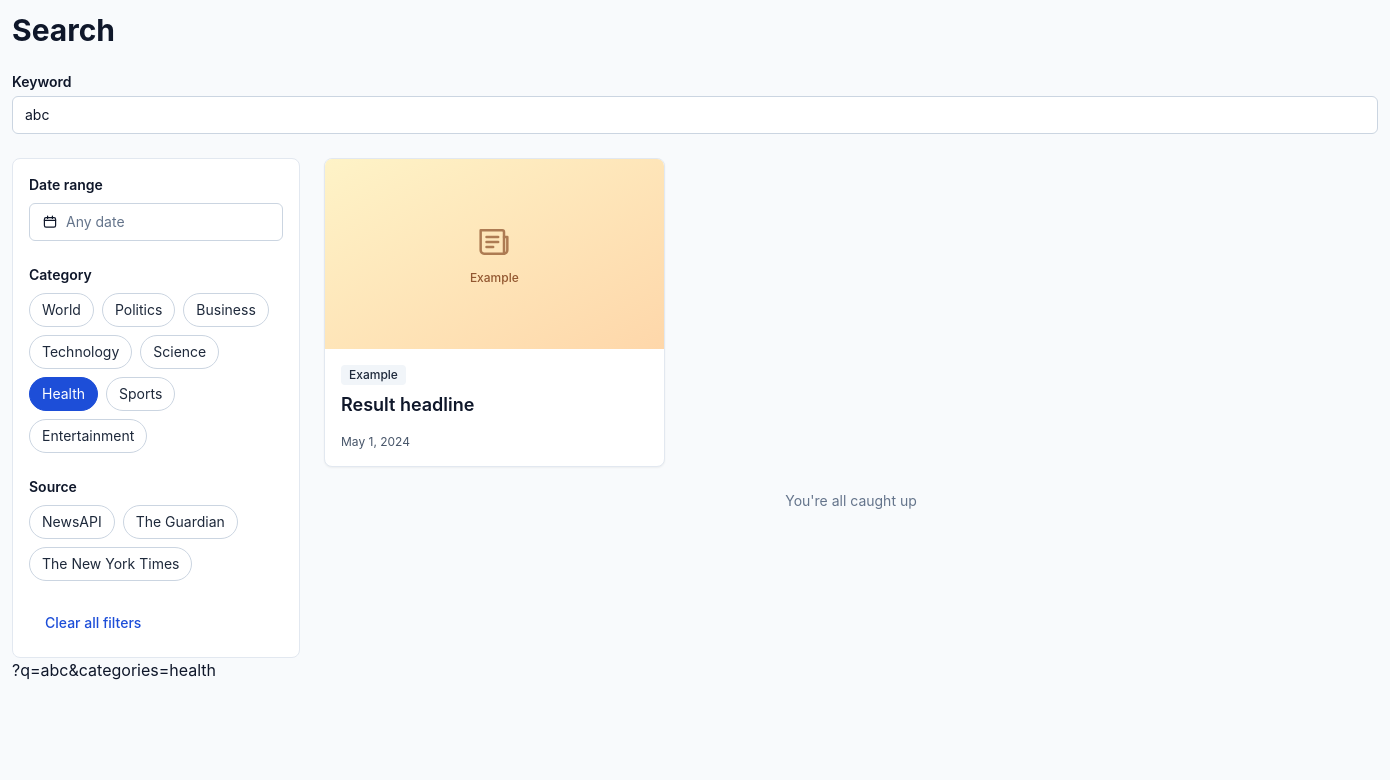
Test: SearchPage › clears all filters
The width and height of the screenshot is (1390, 780).
expect the heading "Result headline" is shown: met, box [341,394,648,418]
Click the button "Clear all filters" at coordinates (93, 623), box [29,605,157,641]
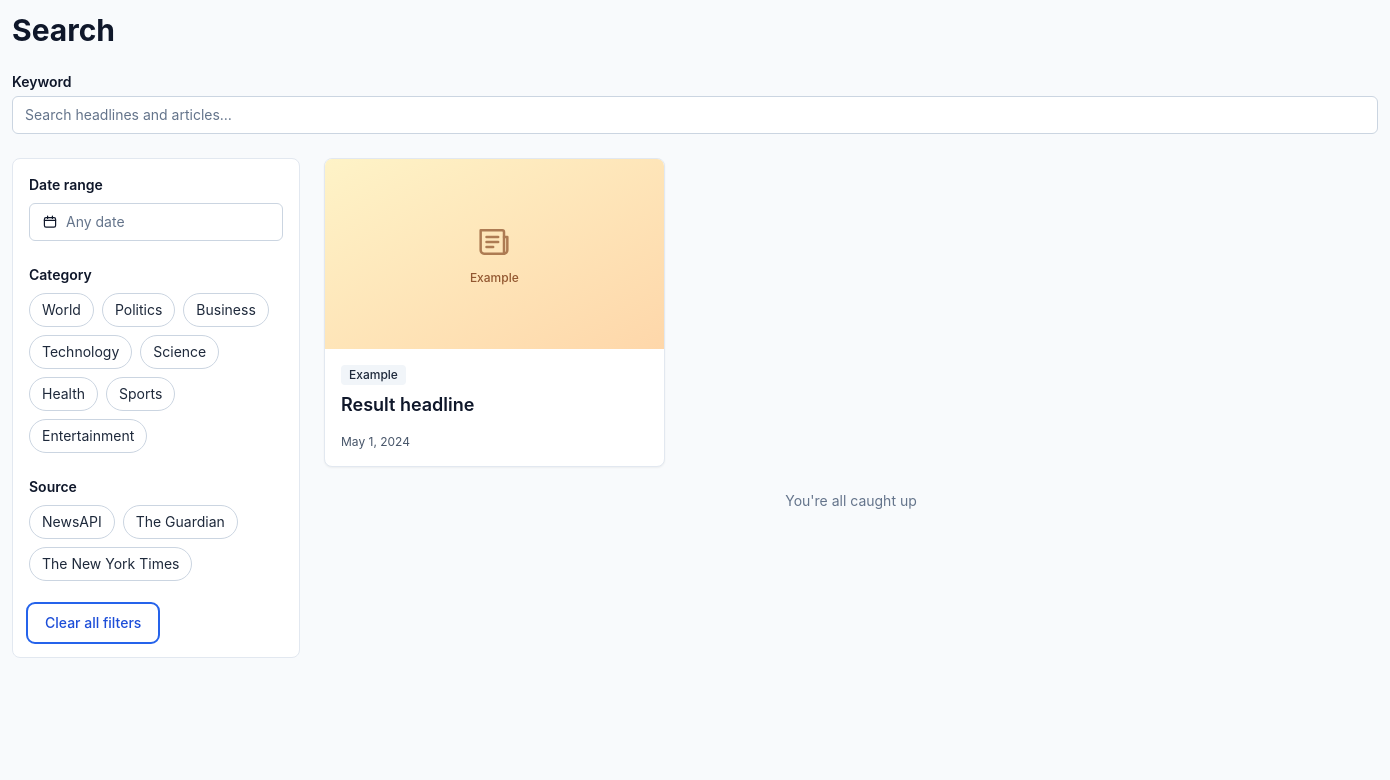
expect the search field labelled "Keyword" is empty: met, box [12,96,1378,134]
